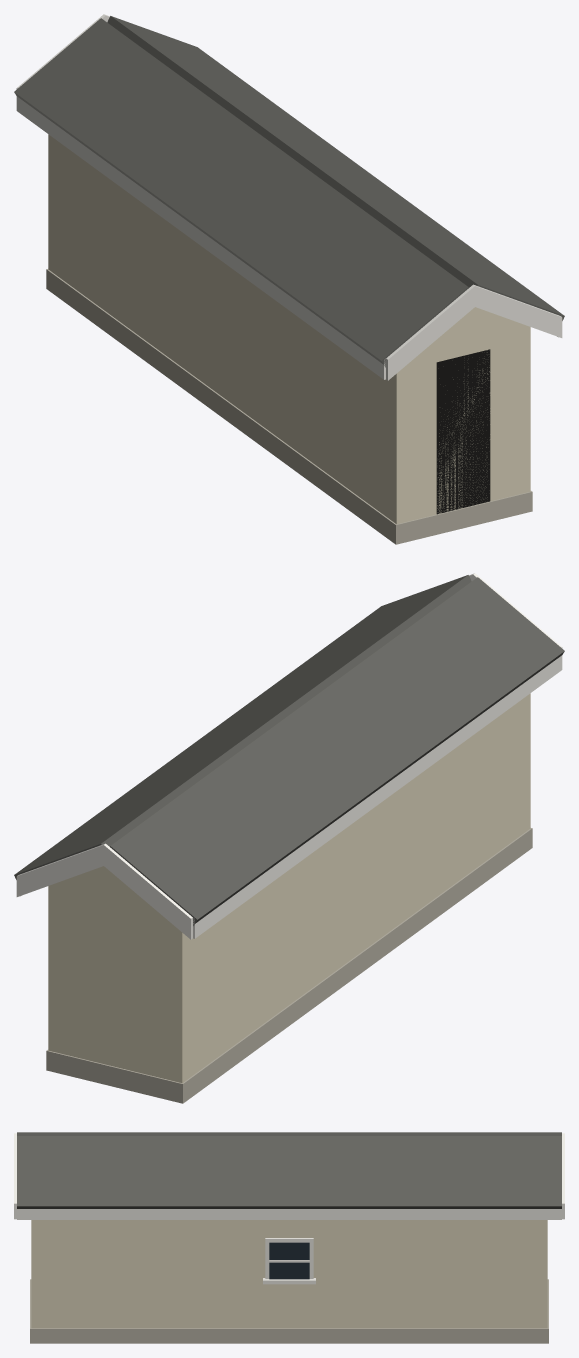
The model's file is garage-0002.glb.
3 views of the same model, one above another, from view 1: azimuth 30°, elevation 25°; view 2: azimuth 150°, elevation 25°; view 3: azimuth 270°, elevation 25° (orthographic). The views are drawn at different scales.
Parts seen in each view (by area): view 1: kit-garage-0002; view 2: kit-garage-0002; view 3: kit-garage-0002.
Boxes of the visible parts, <box> form: kit-garage-0002: <box>14,14,564,544</box>; kit-garage-0002: <box>14,573,564,1103</box>; kit-garage-0002: <box>14,1132,564,1343</box>.
Size of the model in its own units: 2.74 by 3.57 by 9.6.
